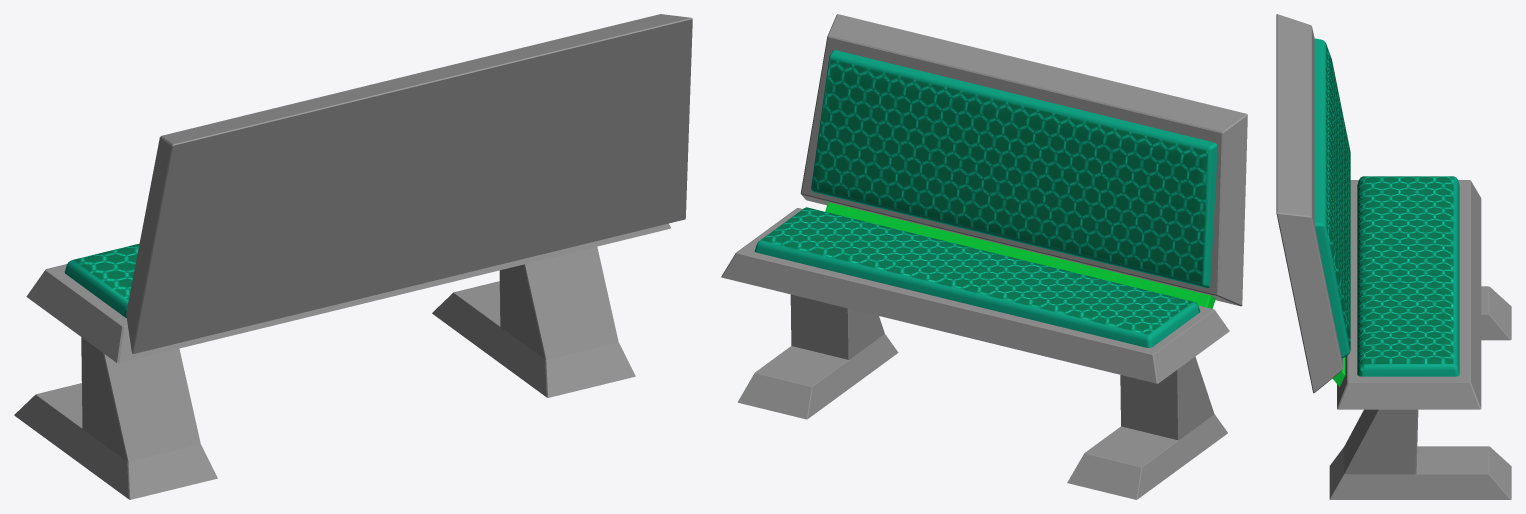
The model's file is SM_Chair_01.fbx.
3 renders of one model, left to right at view 1: azimuth 30°, elevation 25°; view 2: azimuth 150°, elevation 25°; view 3: azimuth 270°, elevation 25°, orthographic. The views are drawn at different scales.
Parts seen in each view (by area): view 1: SM_Chair_01; view 2: SM_Chair_01; view 3: SM_Chair_01.
Part boxes in pixels (left/top/right/bottom): SM_Chair_01: left=14, top=14, right=692, bottom=499; SM_Chair_01: left=721, top=14, right=1247, bottom=499; SM_Chair_01: left=1276, top=14, right=1511, bottom=499.
Size of the model in its own units: 210 by 98.15 by 136.
Materials: 1 (1 with a texture image).
